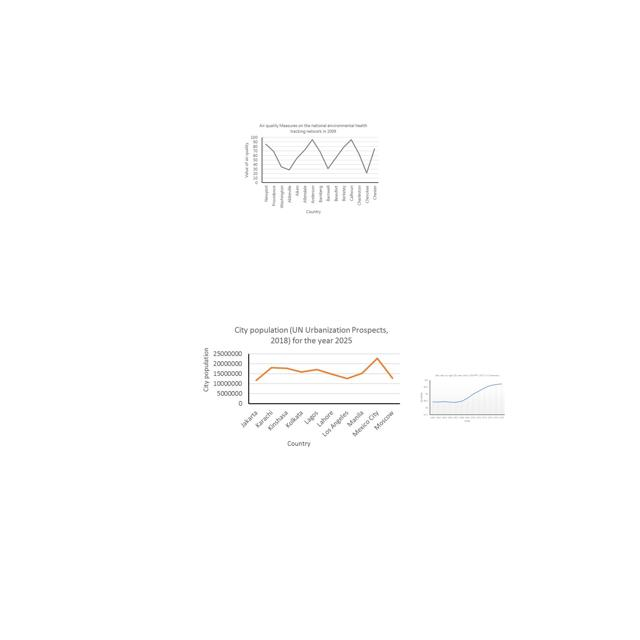Graph: (198, 321, 406, 451), (241, 120, 381, 216), (418, 372, 506, 424)
